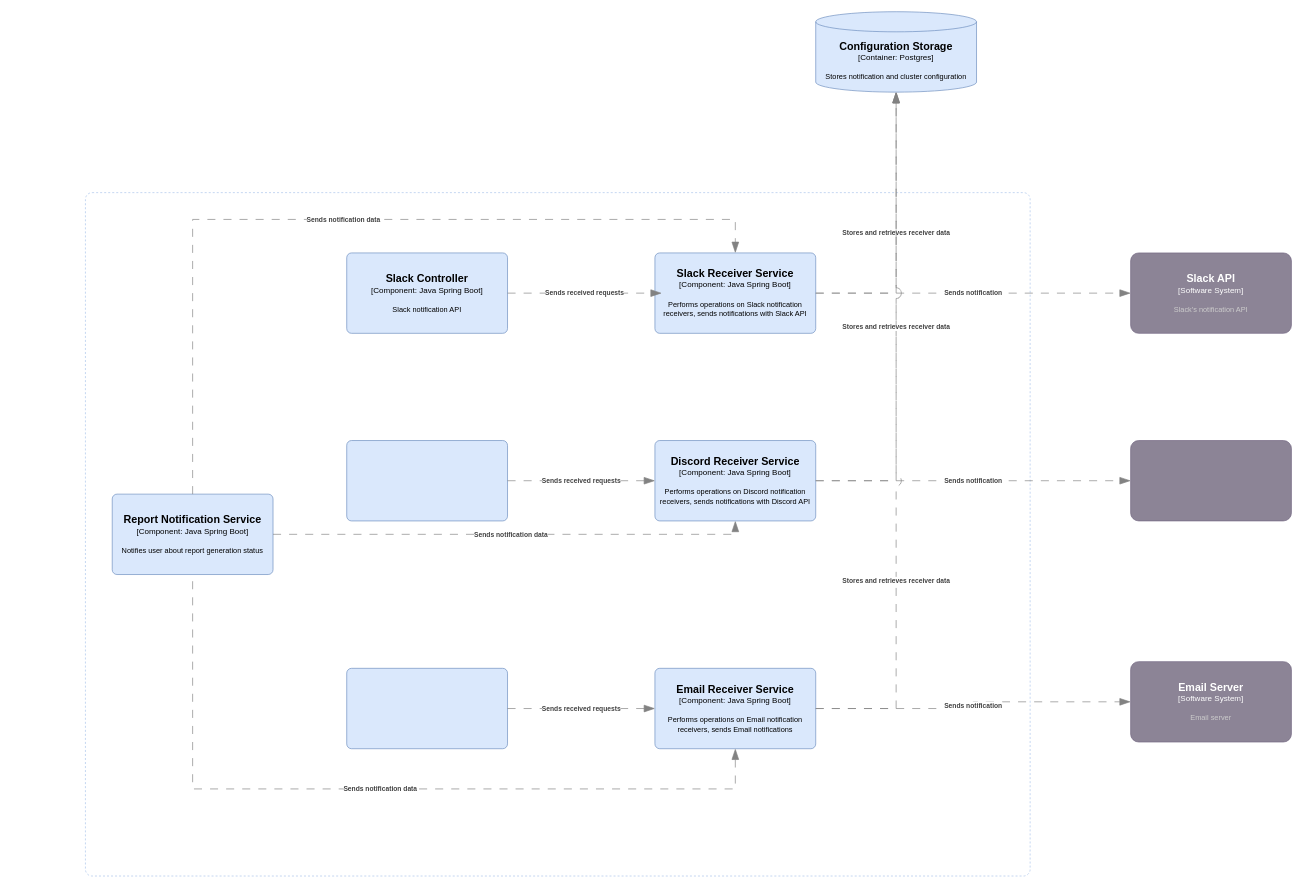
The diagram is 1303 pixels wide and 888 high, and some of its shapes have lost their labels. The shapes that lost their labels are listed below. From the top down, each one's box as (x1, y1, x2, y2) in pixels, then its label:
(346, 440, 508, 521): Discord Controller [Component: Java Spring Boot] Discord notification API
(1130, 440, 1291, 521): Discord API [Software System] Discord's notification API
(85, 192, 1030, 876): Management Service [Container]
(346, 668, 508, 749): Email Controller [Component: Java Spring Boot] Email notification API
